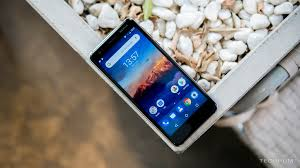nokia: (85, 17, 221, 153)
